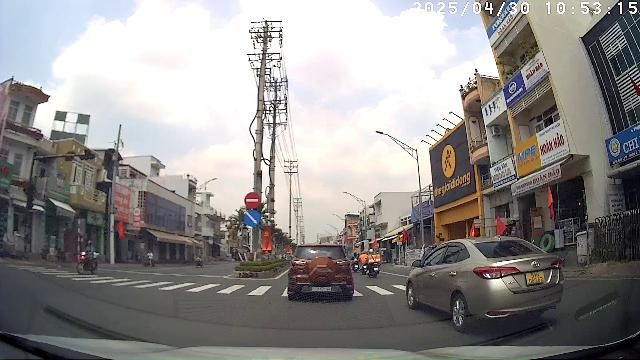102-cam-di-nguoc-chieu: (244, 192, 261, 208)
302a-huong-phai-di-vong-chuong-ngai-vat-1: (243, 209, 260, 226)
